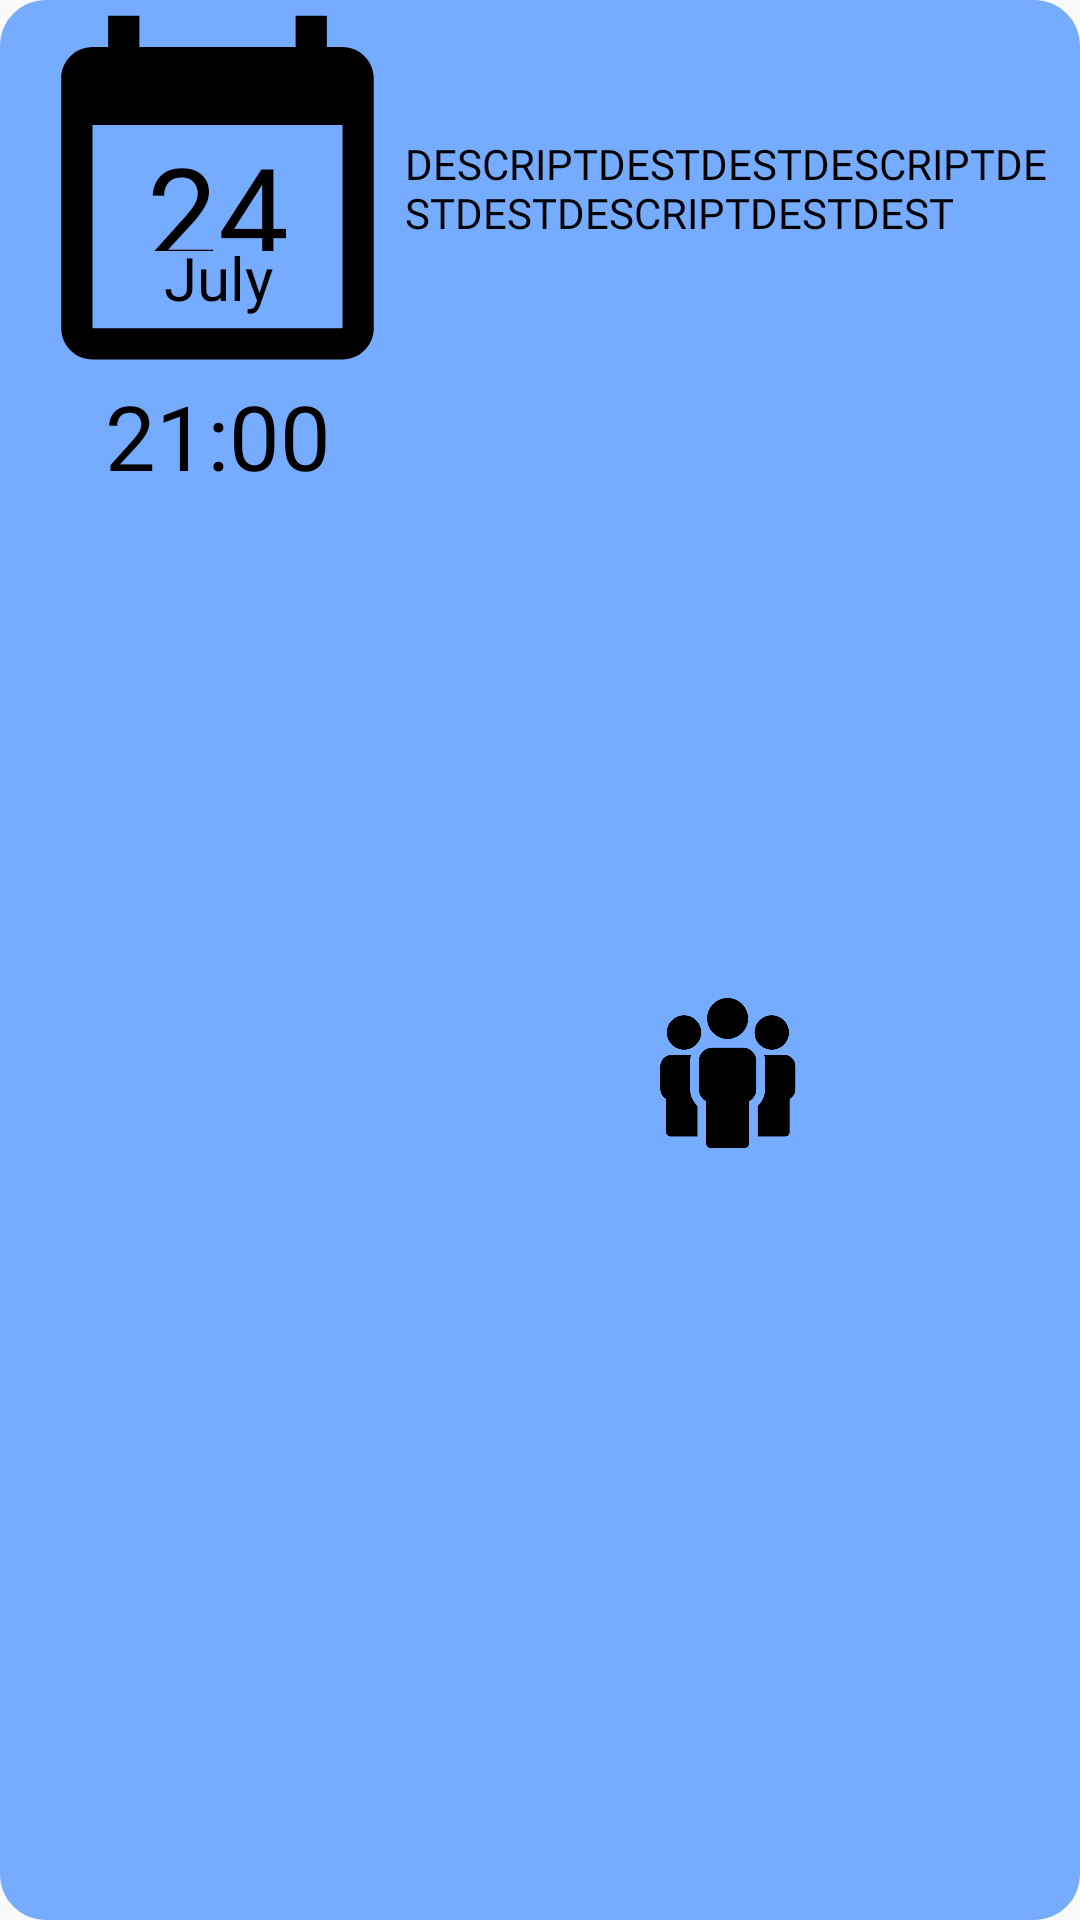

Icon click points for this 1080 x 1920 phone screenshot, format [x,y]:
calendar: [217,187]
groupsicon: [728,1073]
